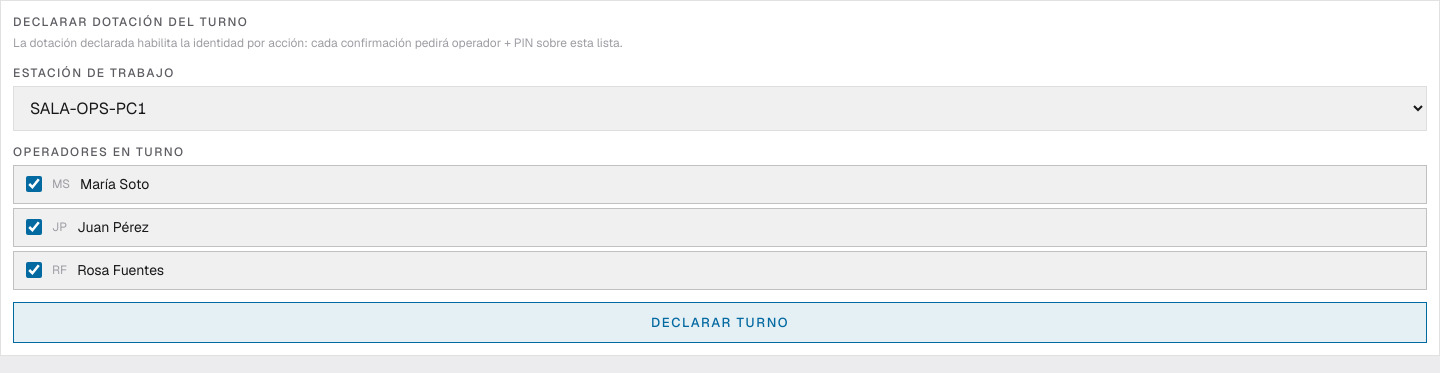
ShiftRosterBar › declares the roster through the store and shows the declared crew
The image size is (1440, 373).
Click the button "Declarar turno". click: {"x": 720, "y": 322}
box: [13, 302, 1427, 343]
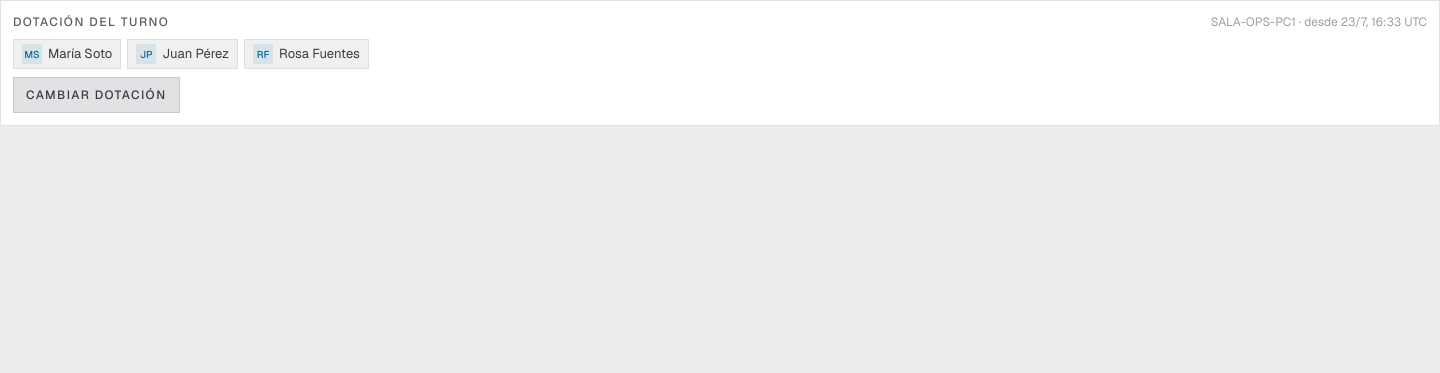
Expected: the list item "María Soto" is shown, [48, 45, 112, 62]
Now the text "SALA-OPS-PC1 · desde 23/7, 16:33 UTC" is shown, box [1211, 13, 1427, 31]
